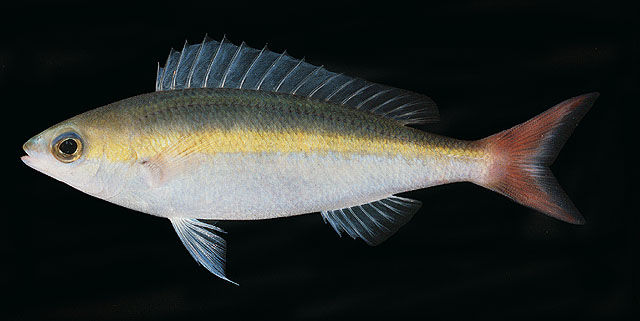fish: (20, 33, 595, 286)
